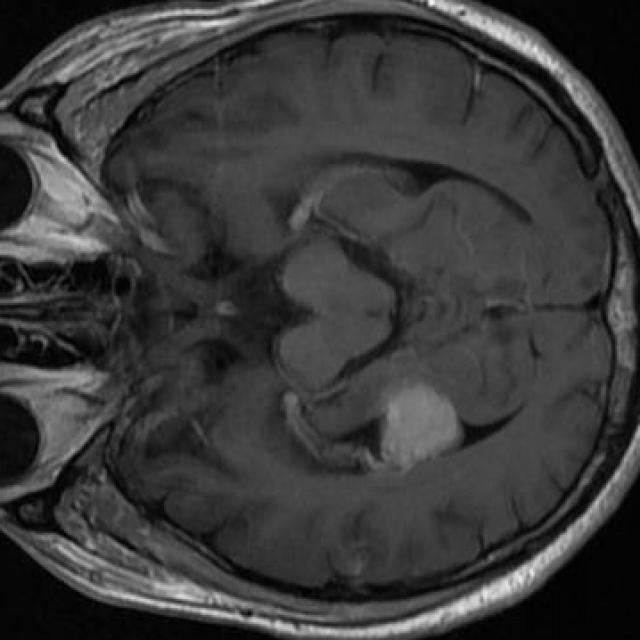meningioma: (380, 385, 460, 472)
